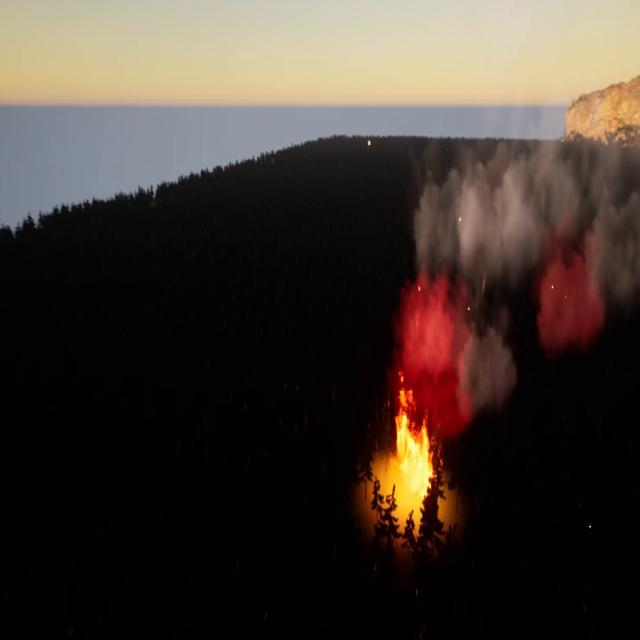fire: (393, 397, 438, 490)
smoke: (398, 137, 640, 426)
